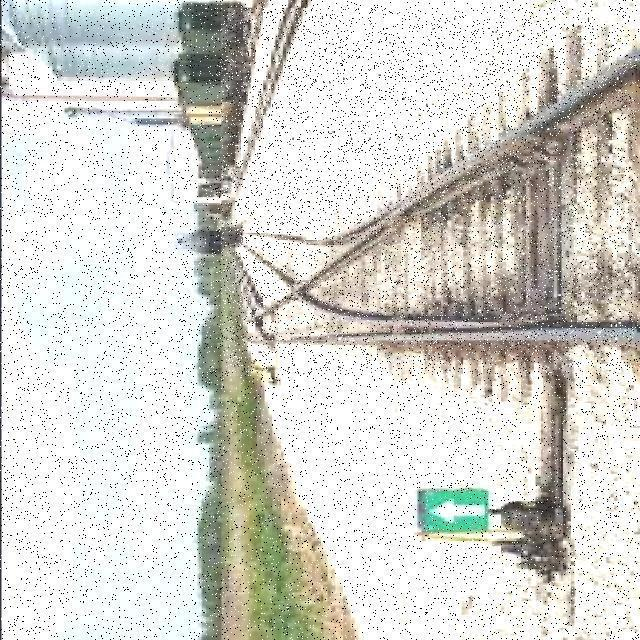rail: (222, 10, 636, 377)
